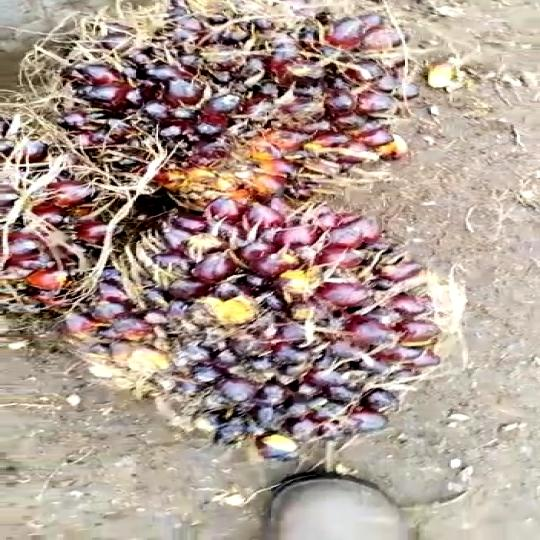kurang masak: (68, 214, 486, 470), (60, 0, 406, 213)
